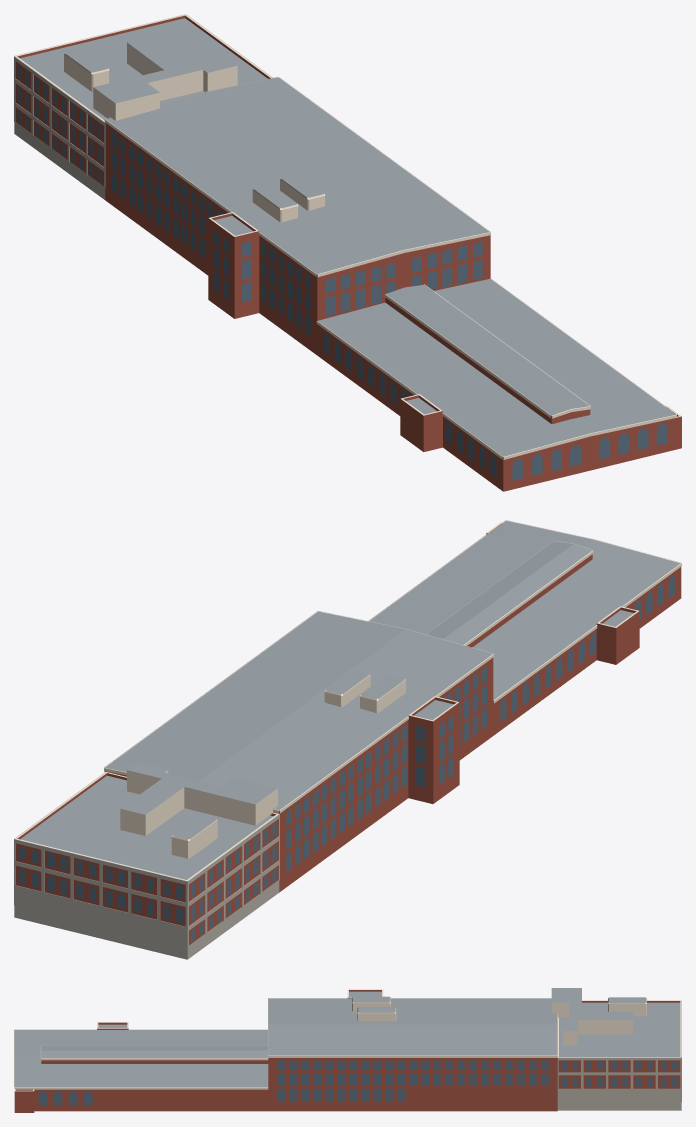
Rendered from clt-savona-mill.glb.
The picture shows the model from 3 angles, top to bottom: view 1: azimuth 30°, elevation 25°; view 2: azimuth 150°, elevation 25°; view 3: azimuth 270°, elevation 25°; orthographic projection. The views are drawn at different scales.
Visible parts, largest first — view 1: Savona Mill; view 2: Savona Mill; view 3: Savona Mill.
Part boxes in pixels (x1,y1,x2,y2): Savona Mill: [14, 14, 681, 491]; Savona Mill: [14, 520, 681, 959]; Savona Mill: [14, 988, 681, 1112].
Size of the model in its own units: 45.45 by 21.1 by 189.
